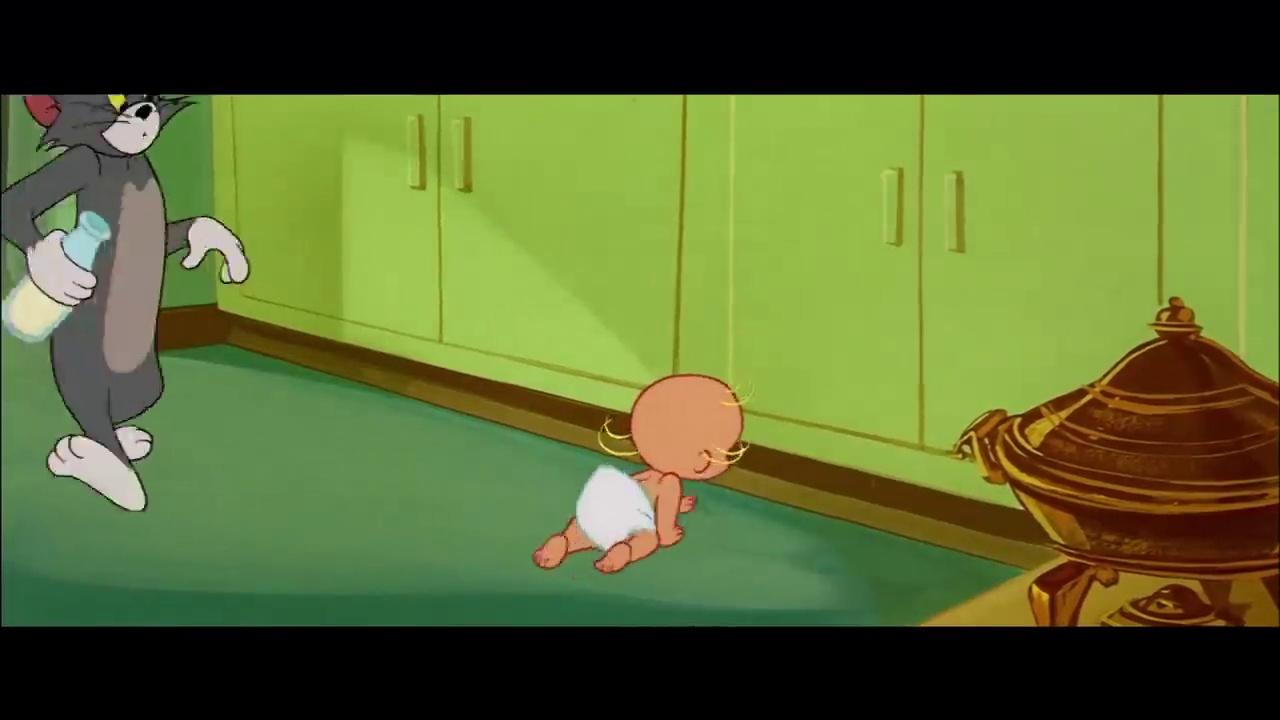Tom: (1, 89, 254, 515)
